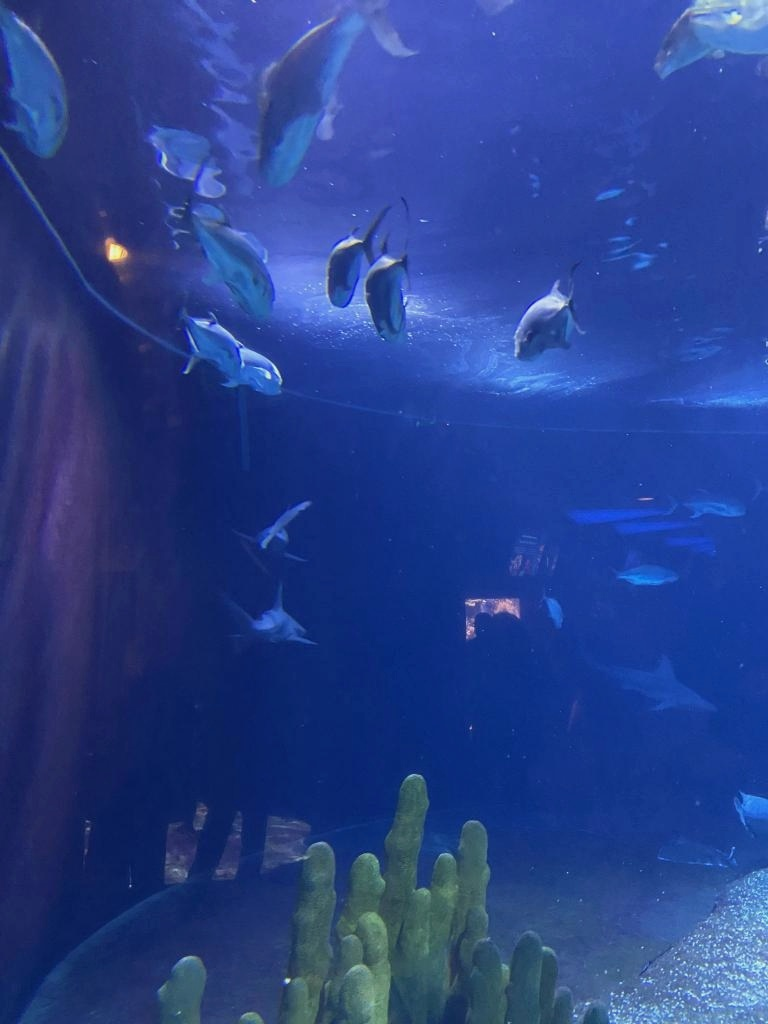fish: (250, 0, 418, 190), (0, 0, 73, 157), (186, 206, 276, 320), (326, 195, 395, 309), (237, 486, 326, 568), (512, 273, 592, 363), (653, 0, 747, 76), (176, 301, 242, 377), (364, 236, 410, 342), (219, 339, 283, 399), (602, 560, 686, 588), (735, 792, 767, 834)
shark: (588, 647, 720, 717), (222, 578, 320, 652), (666, 486, 746, 522)
stingray: (658, 838, 736, 870)
